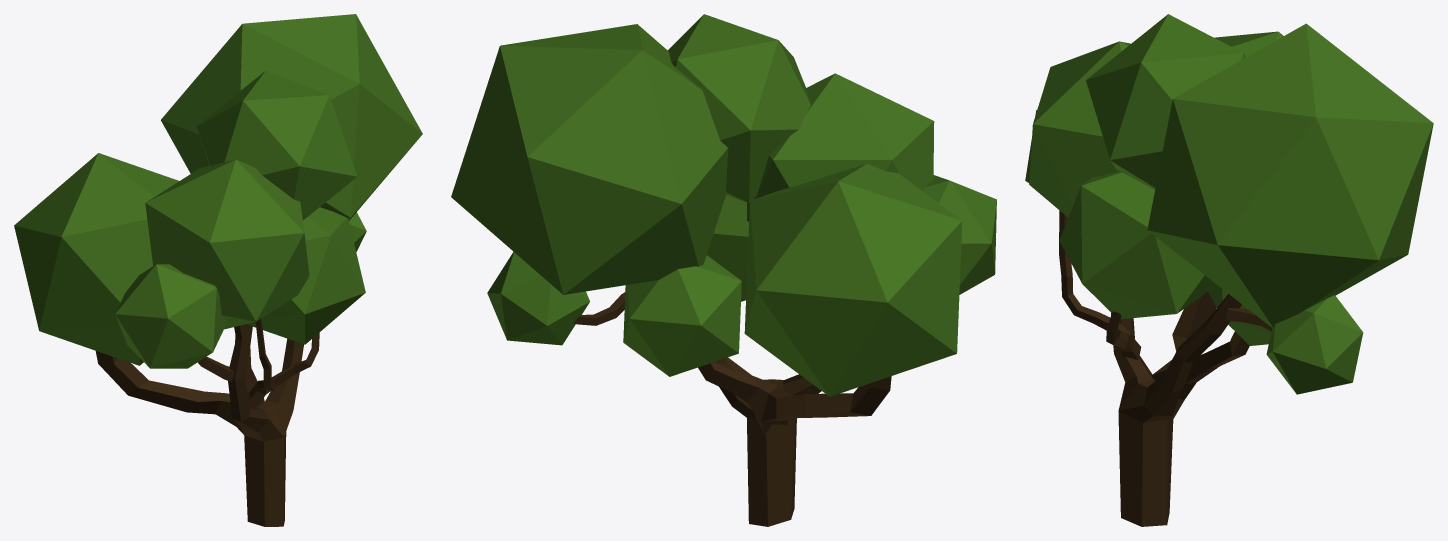
File: low poly arbre 1.fbx
The picture shows the model from 3 angles, left to right: view 1: azimuth 30°, elevation 25°; view 2: azimuth 150°, elevation 25°; view 3: azimuth 270°, elevation 25°; orthographic projection. The views are drawn at different scales.
Parts seen in each view (by area): view 1: Default, Object005, Object001, Object002, Object003; view 2: Default, Object005, Object004, Object002, Object001; view 3: Default, Object001, Object002, Object003, Object004, Object005.
Boxes of the visible parts, x1,y1,x2,y2 form: Default: [115, 14, 422, 526]; Object005: [14, 153, 178, 365]; Object001: [249, 207, 365, 344]; Object002: [95, 325, 264, 434]; Object003: [248, 319, 319, 410]; Default: [451, 14, 996, 526]; Object005: [744, 163, 962, 396]; Object004: [623, 255, 741, 376]; Object002: [698, 362, 891, 435]; Object001: [707, 195, 748, 301]; Default: [1025, 14, 1433, 526]; Object001: [1059, 172, 1212, 319]; Object002: [1151, 292, 1249, 419]; Object003: [1059, 210, 1141, 359]; Object004: [1208, 281, 1271, 345]; Object005: [1214, 31, 1283, 56].
Size of the model in its own units: 31.46 by 34.91 by 24.85.
